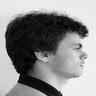ear: (28, 39, 58, 66)
